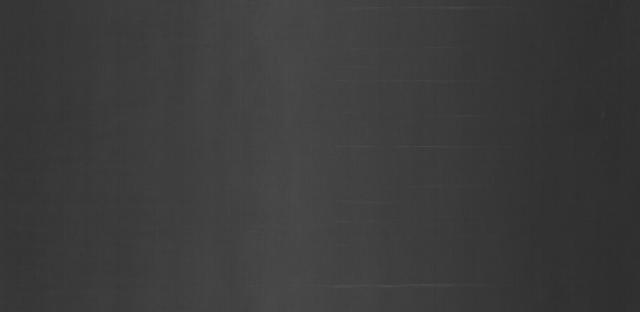waist_folding: (326, 34, 525, 288)
